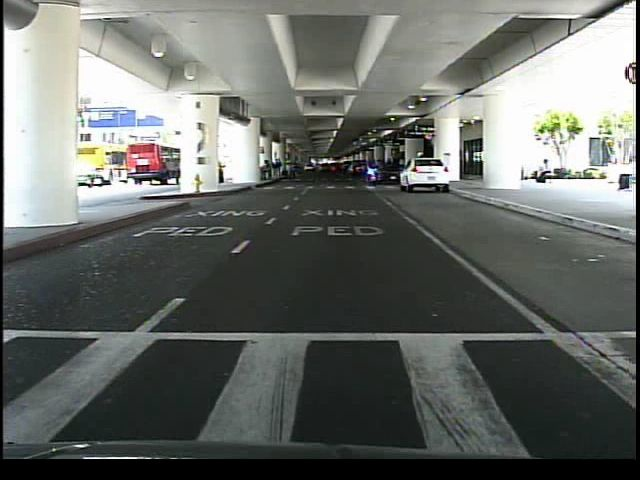person: (529, 154, 557, 191)
